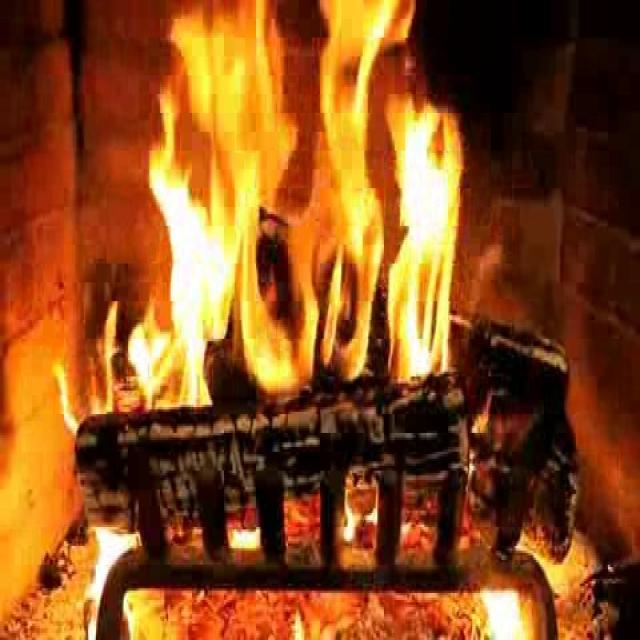Fire: (148, 14, 458, 402)
